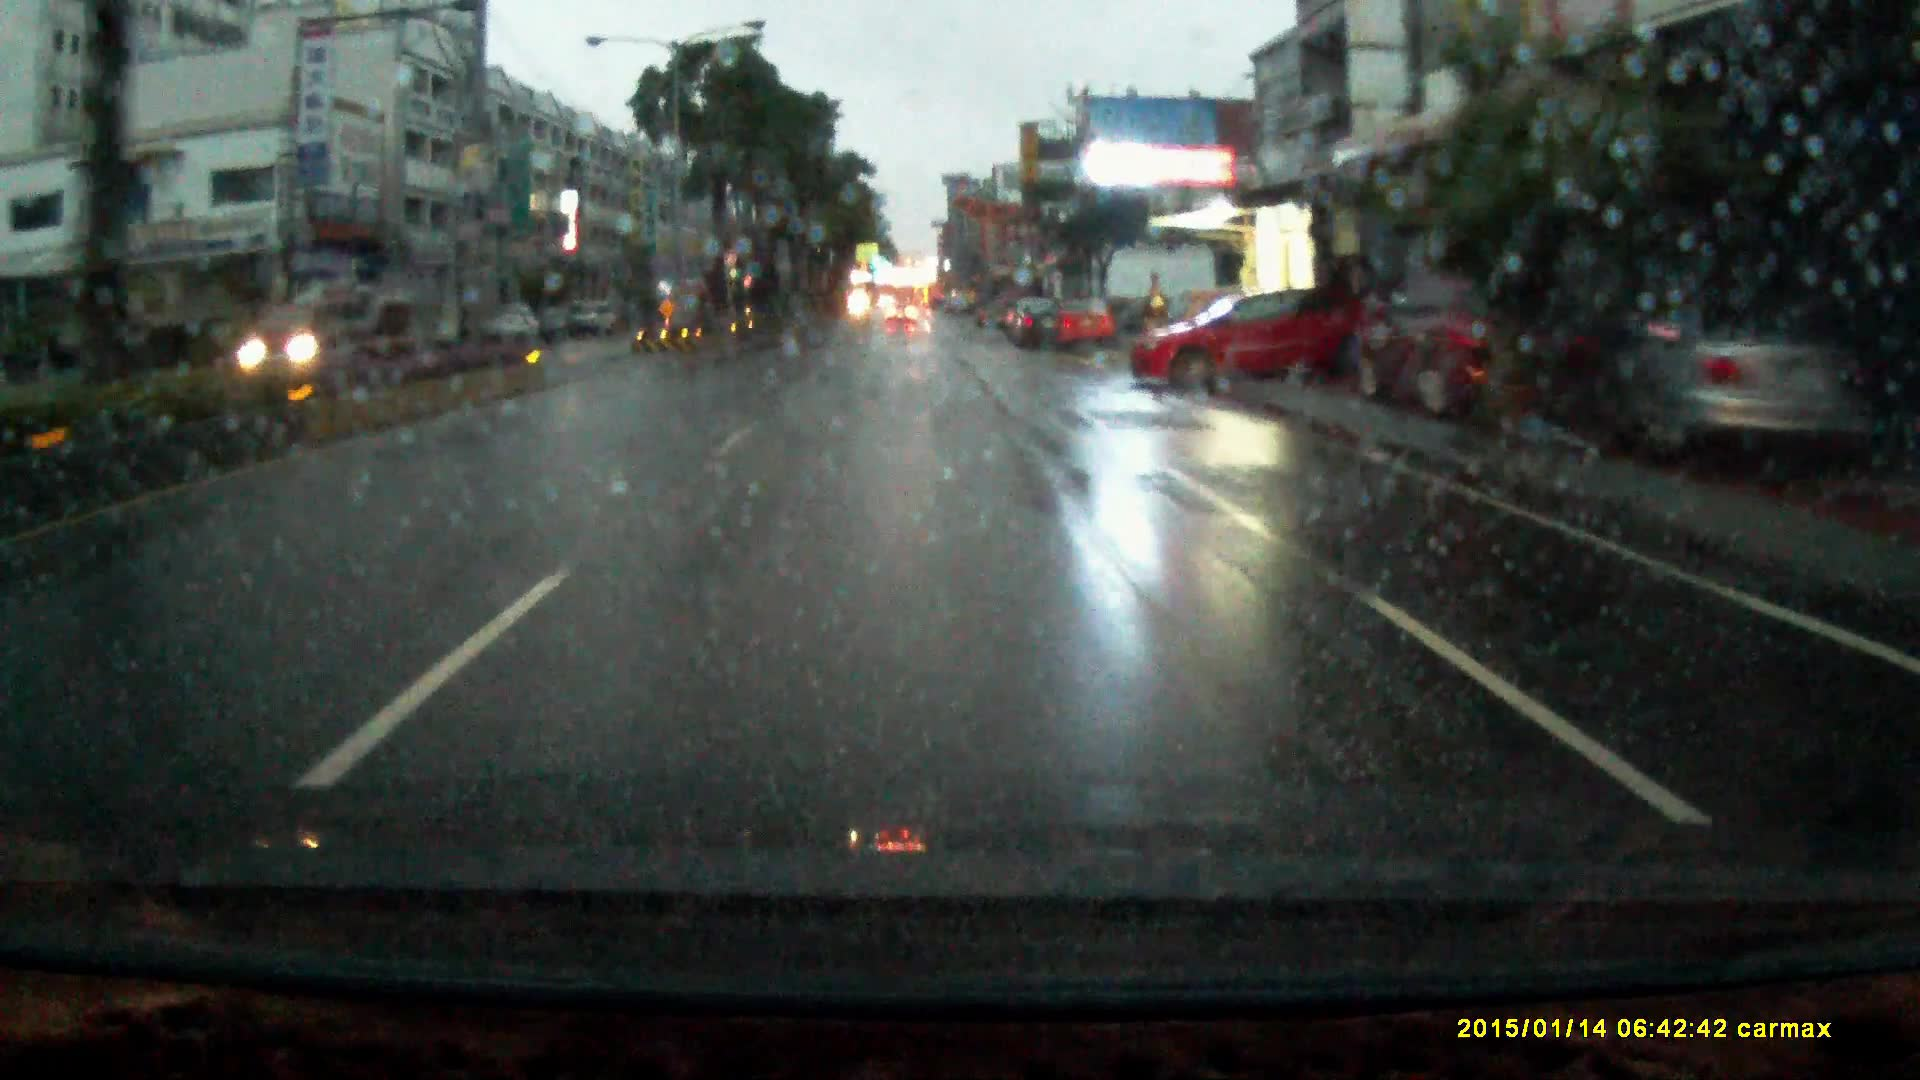vehicle: (1597, 294, 1857, 492), (1352, 276, 1610, 429), (1127, 291, 1386, 394), (225, 299, 369, 375), (1042, 303, 1121, 356), (1005, 302, 1065, 352), (568, 301, 622, 339), (886, 305, 916, 332)
